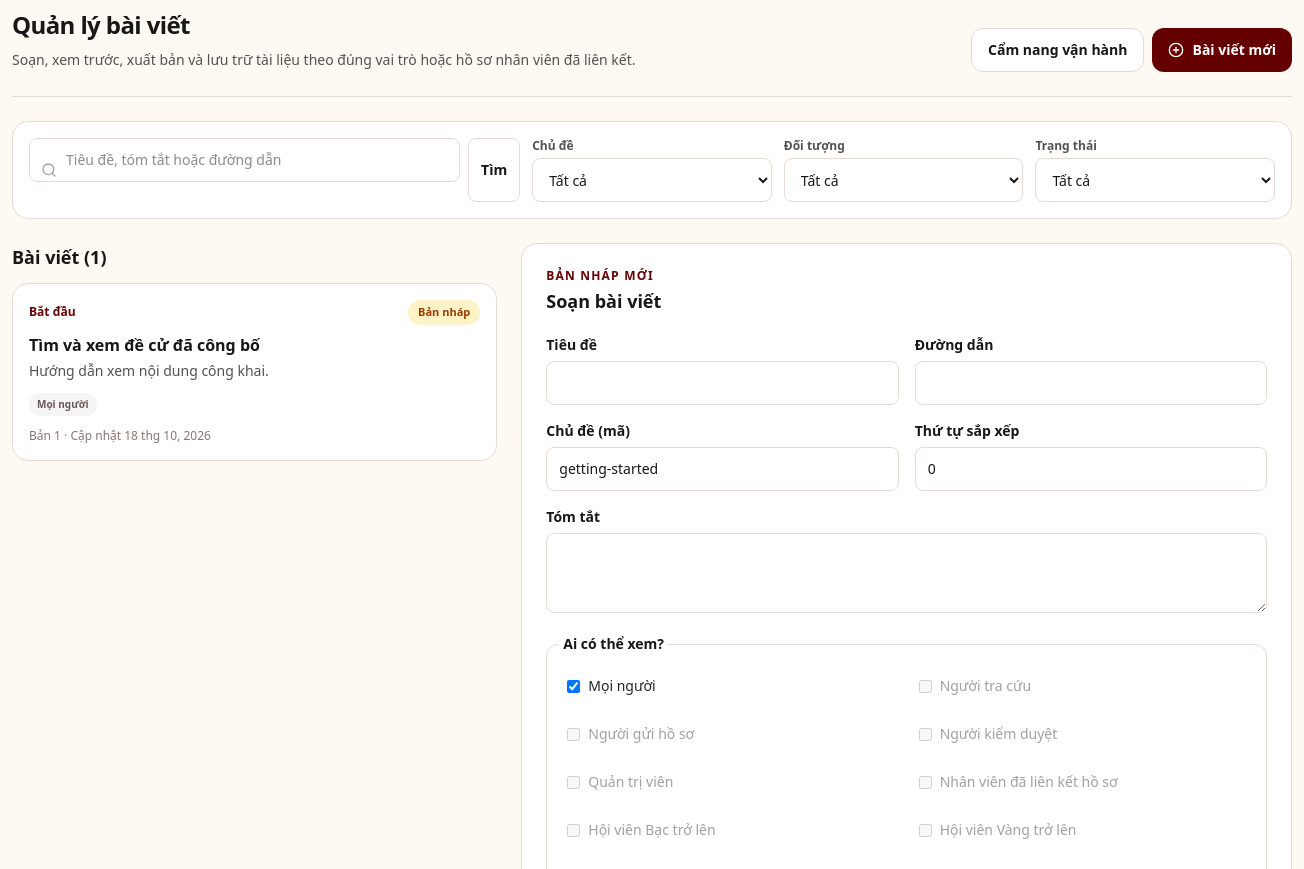
GuideArticleWorkspace › shows anonymous reader feedback to the guide administrator
What coordinates should you click on to do the following:
click the button "Tìm và xem đề cử đã công bố"
I would click on:
 (255, 372)
Its box is [12,283,497,461].
(page scrolled)
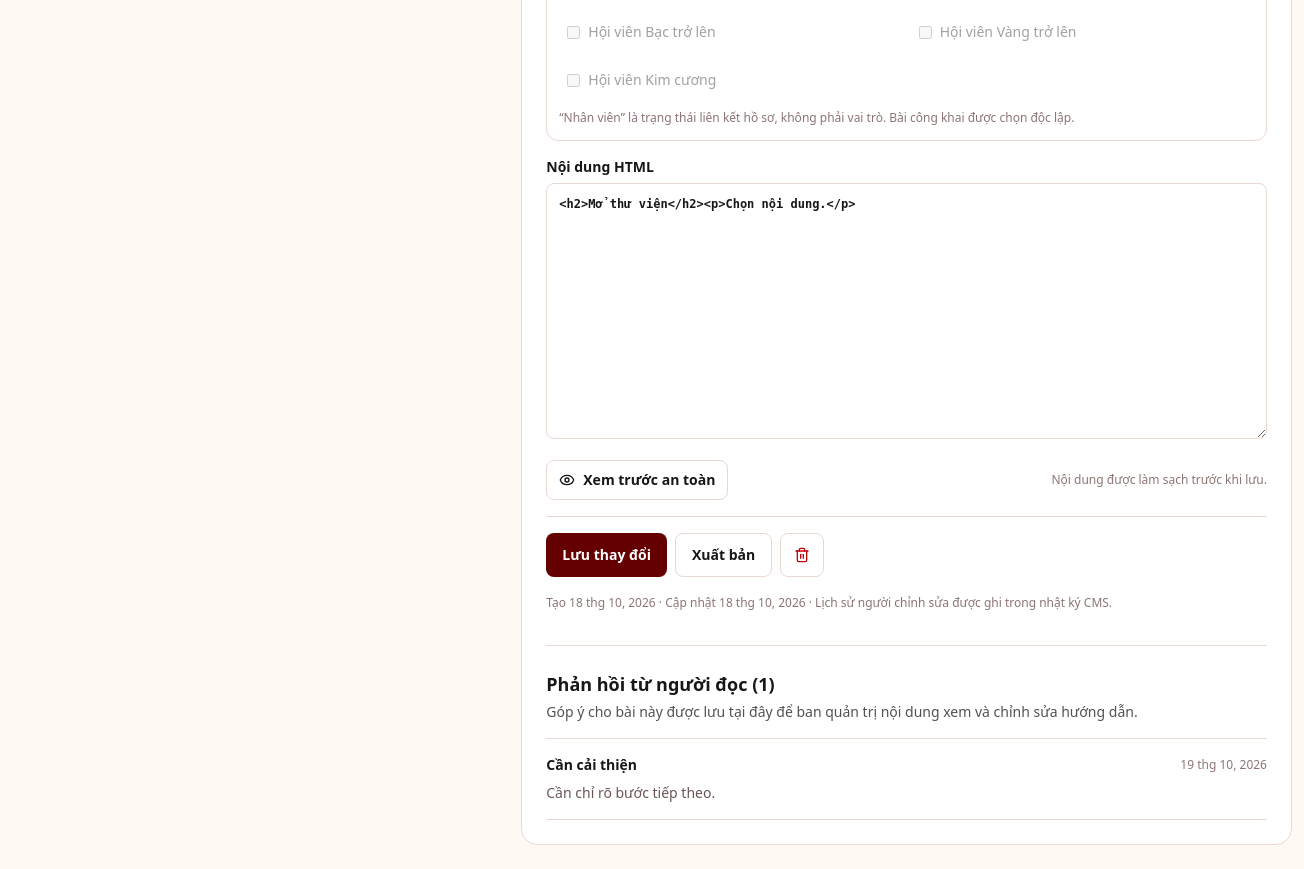
Check: the text "Cần chỉ rõ bước tiếp theo." is shown, box [546,783,715,802]
Check: the heading "Phản hồi từ người đọc (1)" is shown, box [546,672,775,696]
